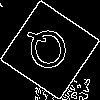Q: (25, 25, 72, 80)
